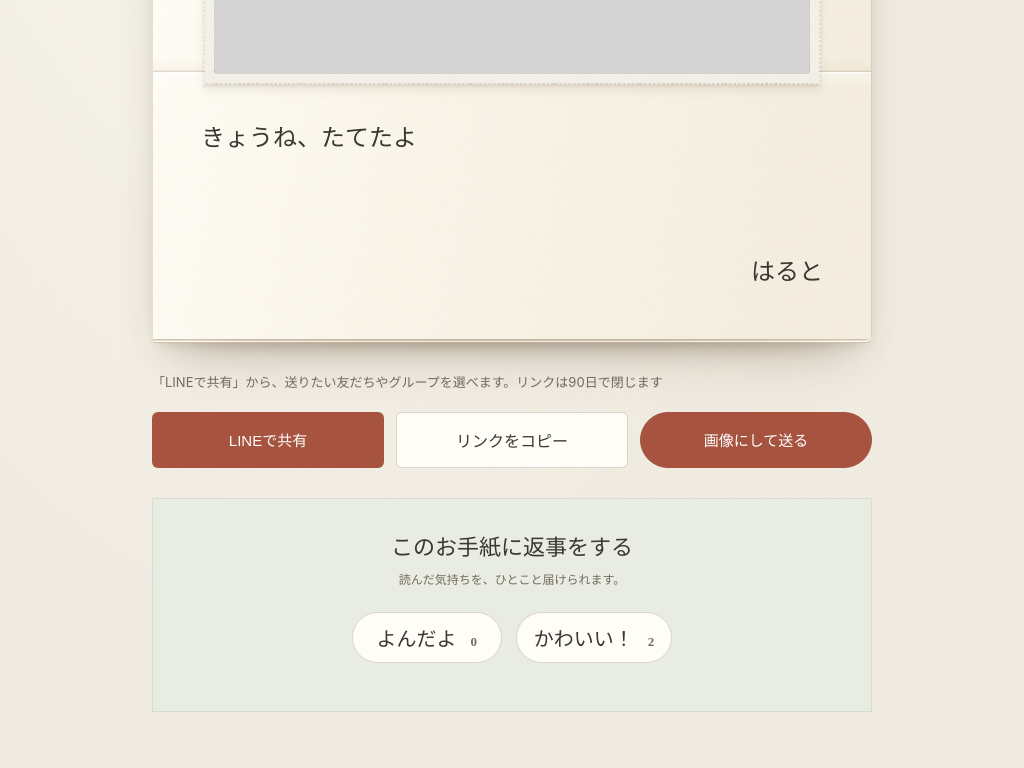
Scenario: LetterPage › renders letter content and increments stamps
(page scrolled)
Expected: the text "きょうね、たてたよ" is shown, [201,125,417,151]
Expected: the text "はると" is shown, [751,259,823,285]
Click the button "よんだよ0" at (427, 638), box [352,612,502,663]
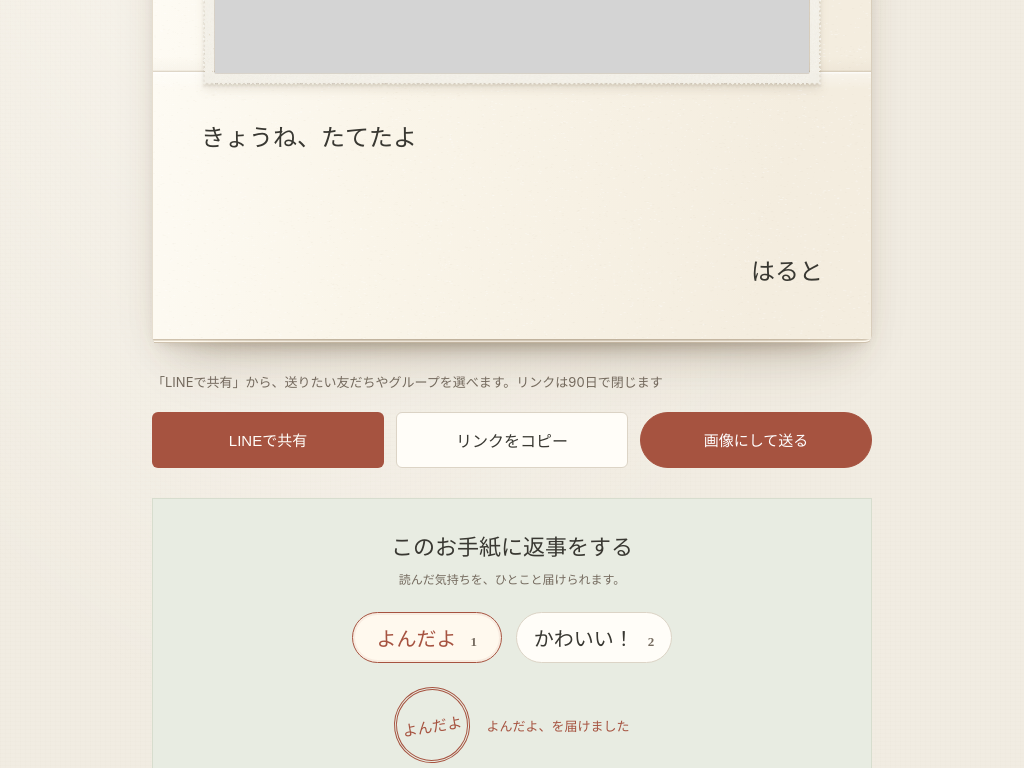
Expected: the text "1" is shown, [470,634,477,649]
